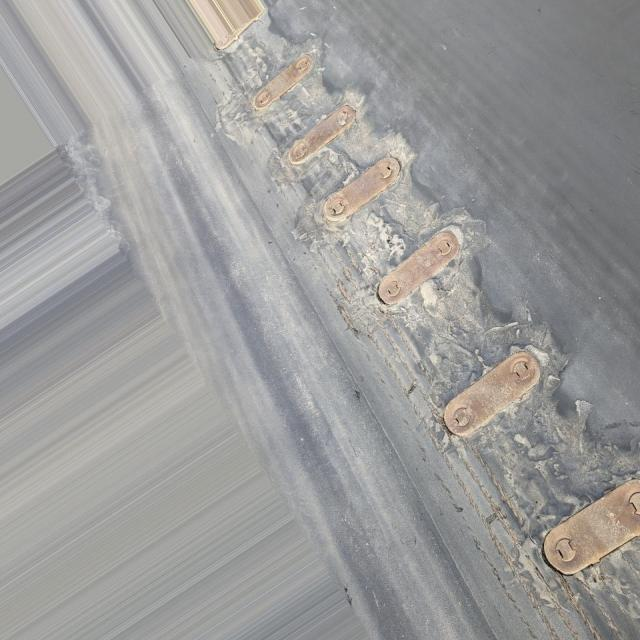patch work: (204, 21, 640, 614)
